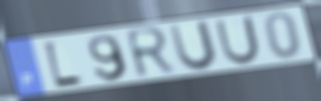0: (262, 10, 306, 62)
9: (86, 34, 130, 82)
L: (41, 40, 86, 91)
R: (122, 24, 179, 82)
U: (166, 19, 220, 73), (214, 14, 263, 66)
